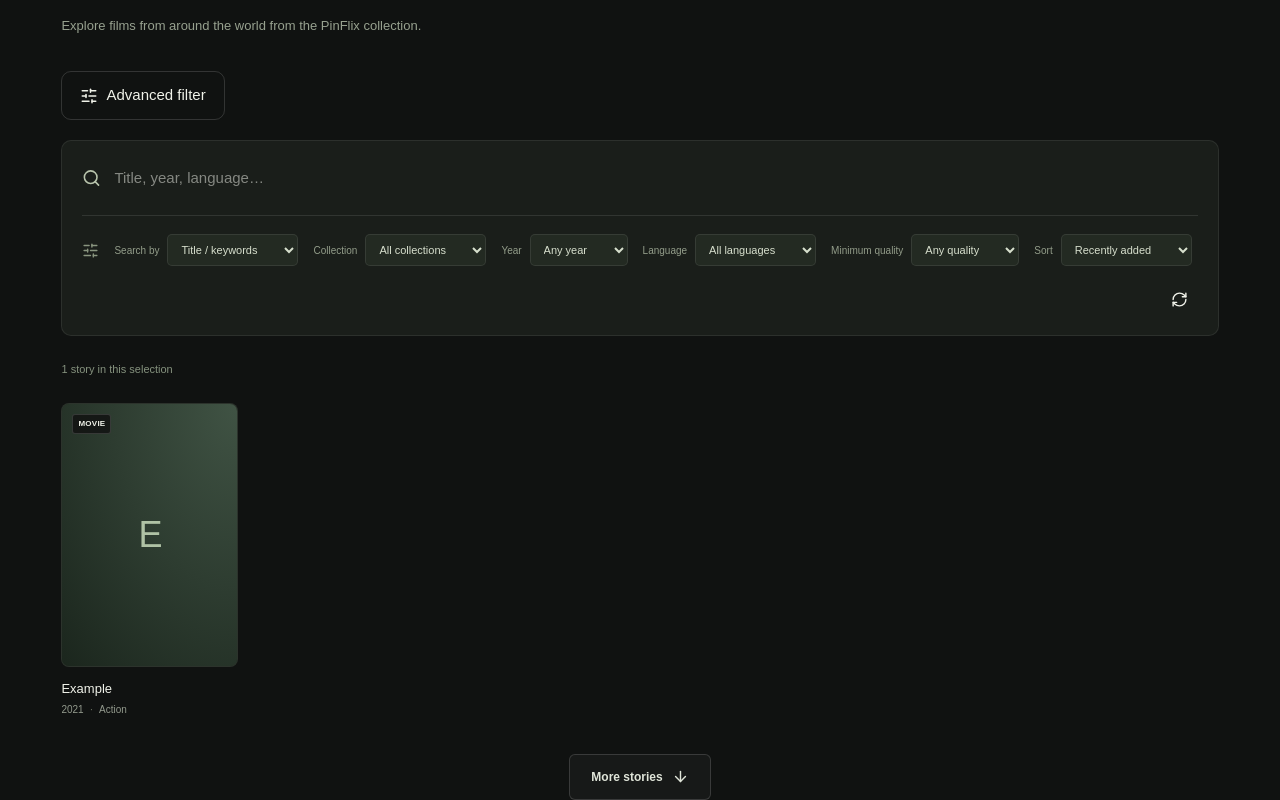
it: ported source UI flows › loads filtered pages and deduplicates appended provider titles
(page scrolled)
Click the button "More stories". click: (640, 777)
box: [569,754,711,799]
(page scrolled)
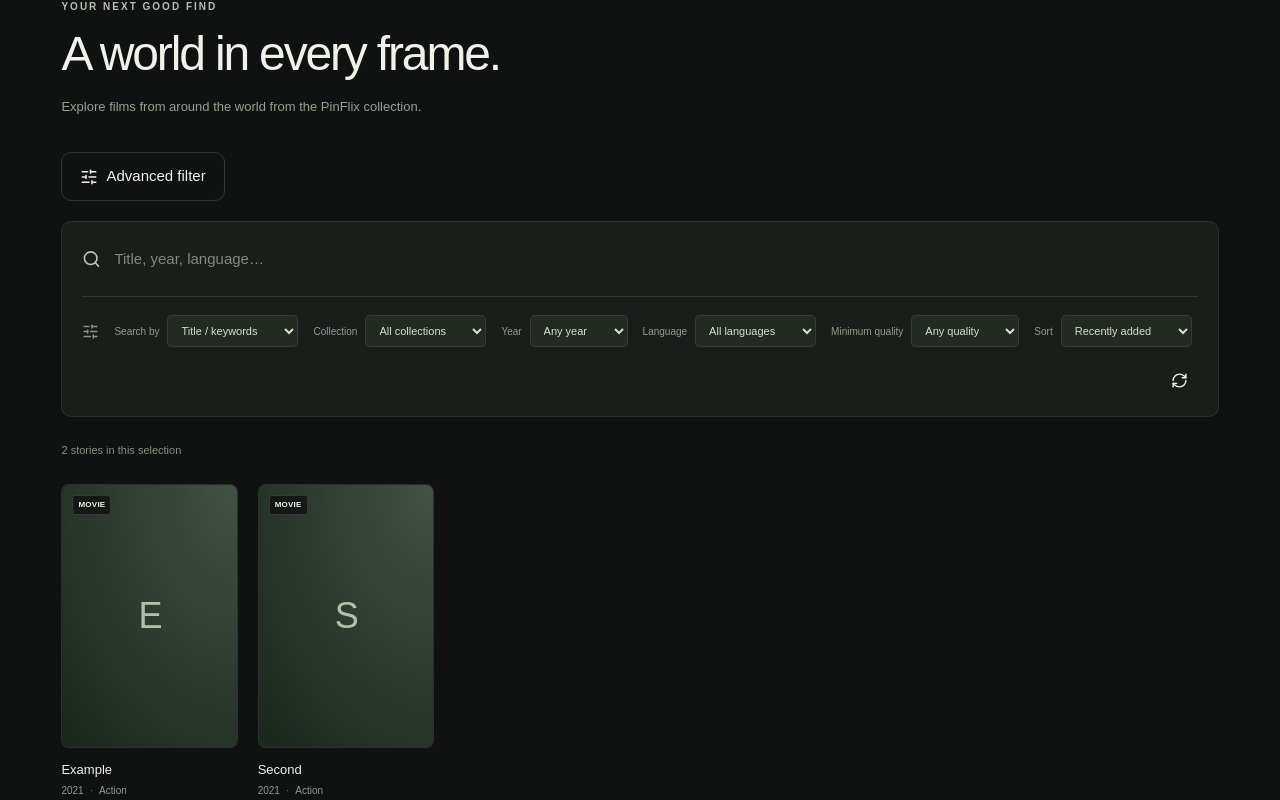
expect the dropdown labelled "quality" is enabled: met, box [911,315,1019,347]
expect the heading "Second" is shown: met, box [258,762,302,777]
expect the number of headings "Example" is 1: met, box [61,762,112,777]
